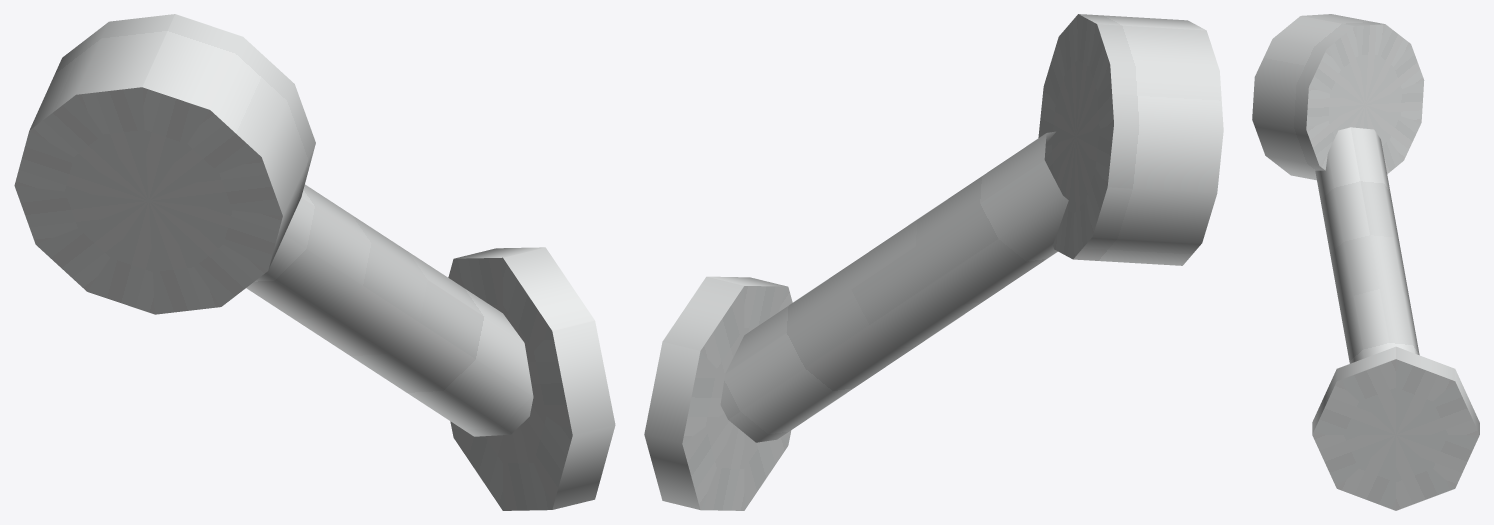
File: nycsignalarm_stub_117.obj
The picture shows the model from 3 angles, left to right: view 1: azimuth 30°, elevation 25°; view 2: azimuth 150°, elevation 25°; view 3: azimuth 270°, elevation 25°; orthographic projection. The views are drawn at different scales.
Visible parts, largest first — view 1: nycsignalarm_stub_117; view 2: nycsignalarm_stub_117; view 3: nycsignalarm_stub_117.
Boxes of the visible parts, x1,y1,x2,y2 form: nycsignalarm_stub_117: (14,14,615,510); nycsignalarm_stub_117: (644,14,1223,510); nycsignalarm_stub_117: (1252,14,1479,510).
Bounding box in the file's own units: 0.7998 × 0.8441 × 0.4755.
